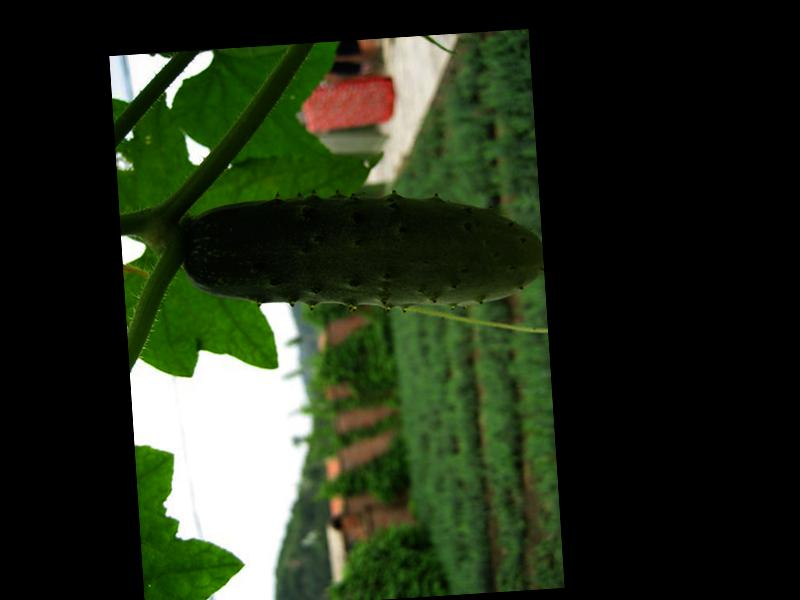Cucumber: (179, 182, 545, 320)
